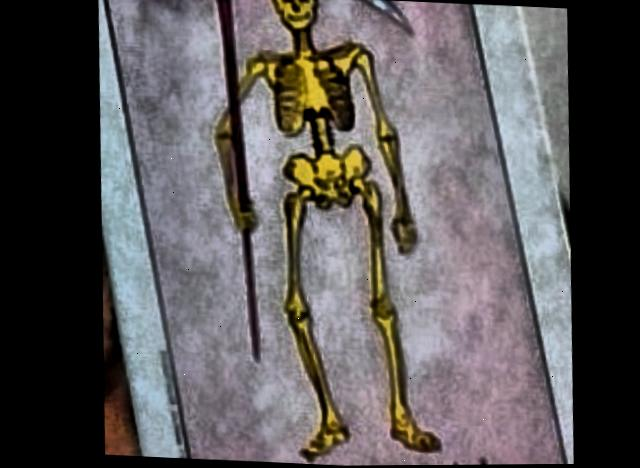La Muerte: (111, 0, 557, 466)
